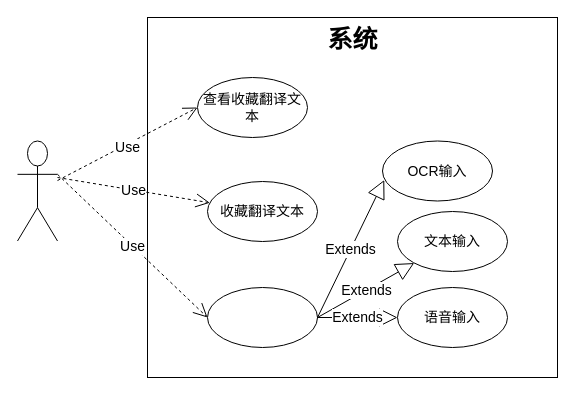
Image size: 575x395. Some labels were removed from this diagram. The shapes that lost their labels are listed below. From the top down, each one's centre as x and y in pixels, then its label:
(37,190): 主角1
(262,317): 翻译文本
